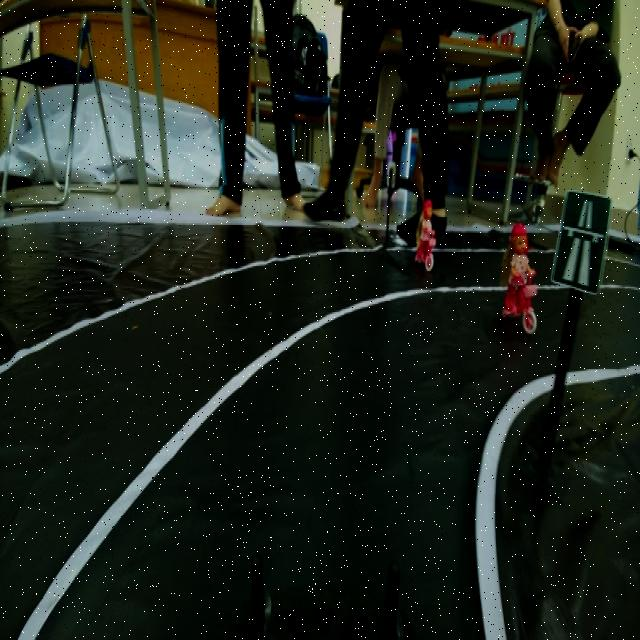highway_entry: (554, 193, 614, 301)
pedestrian: (503, 222, 541, 329)
